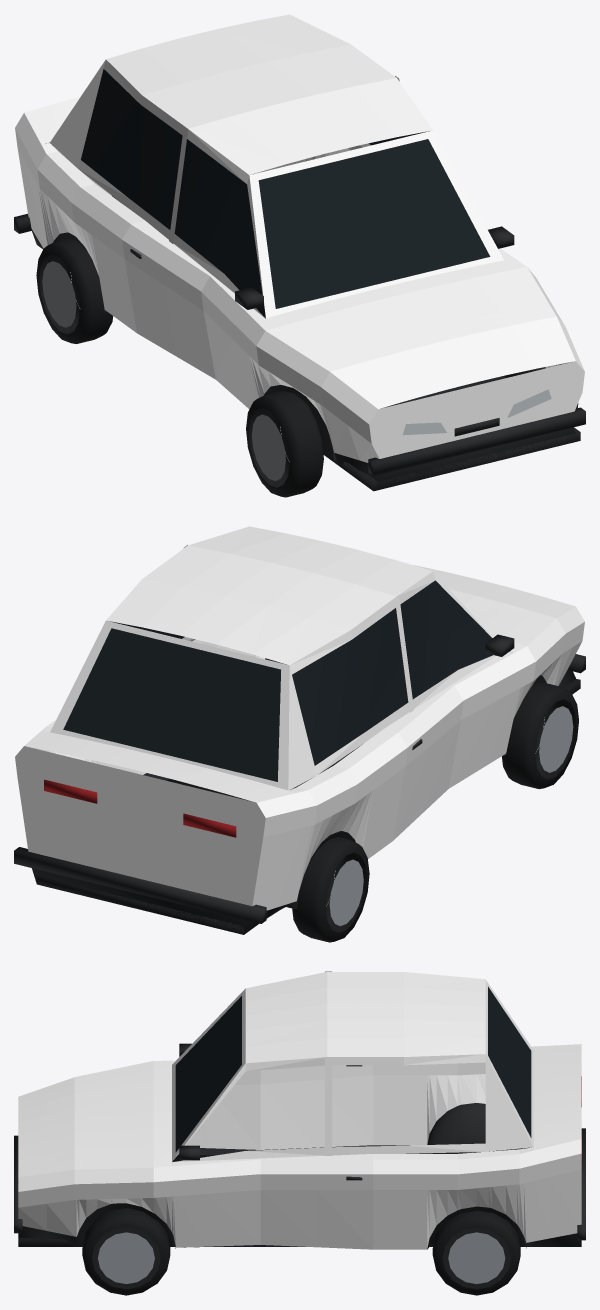
File: kosame_xisto.glb
The picture shows the model from 3 angles, top to bottom: view 1: azimuth 30°, elevation 25°; view 2: azimuth 150°, elevation 25°; view 3: azimuth 270°, elevation 25°; orthographic projection. The views are drawn at different scales.
Parts seen in each view (by area): view 1: Body_Paint, Body_Details, Mount_FrontLeft_Wheel_Details, Mount_RearLeft_Wheel_Details; view 2: Body_Paint, Body_Details, Mount_FrontLeft_Wheel_Details, Mount_RearLeft_Wheel_Details; view 3: Body_Paint, Body_Details, Mount_FrontRight_Wheel_Details, Mount_RearRight_Wheel_Details.
Part boxes in pixels (box(x1,y1,x2,y2)): Body_Paint: box(15, 14, 584, 462); Body_Details: box(14, 69, 585, 491); Mount_FrontLeft_Wheel_Details: box(246, 390, 323, 497); Mount_RearLeft_Wheel_Details: box(36, 238, 113, 343); Body_Paint: box(15, 526, 584, 910); Body_Details: box(14, 580, 585, 934); Mount_FrontLeft_Wheel_Details: box(502, 682, 578, 789); Mount_RearLeft_Wheel_Details: box(292, 837, 369, 942); Body_Paint: box(18, 971, 581, 1249); Body_Details: box(14, 986, 585, 1249); Mount_FrontRight_Wheel_Details: box(82, 1208, 170, 1295); Mount_RearRight_Wheel_Details: box(432, 1210, 520, 1295).
Bounding box in the file's own units: 1.73 × 1.57 × 3.58.
2 materials, 1 textured.
